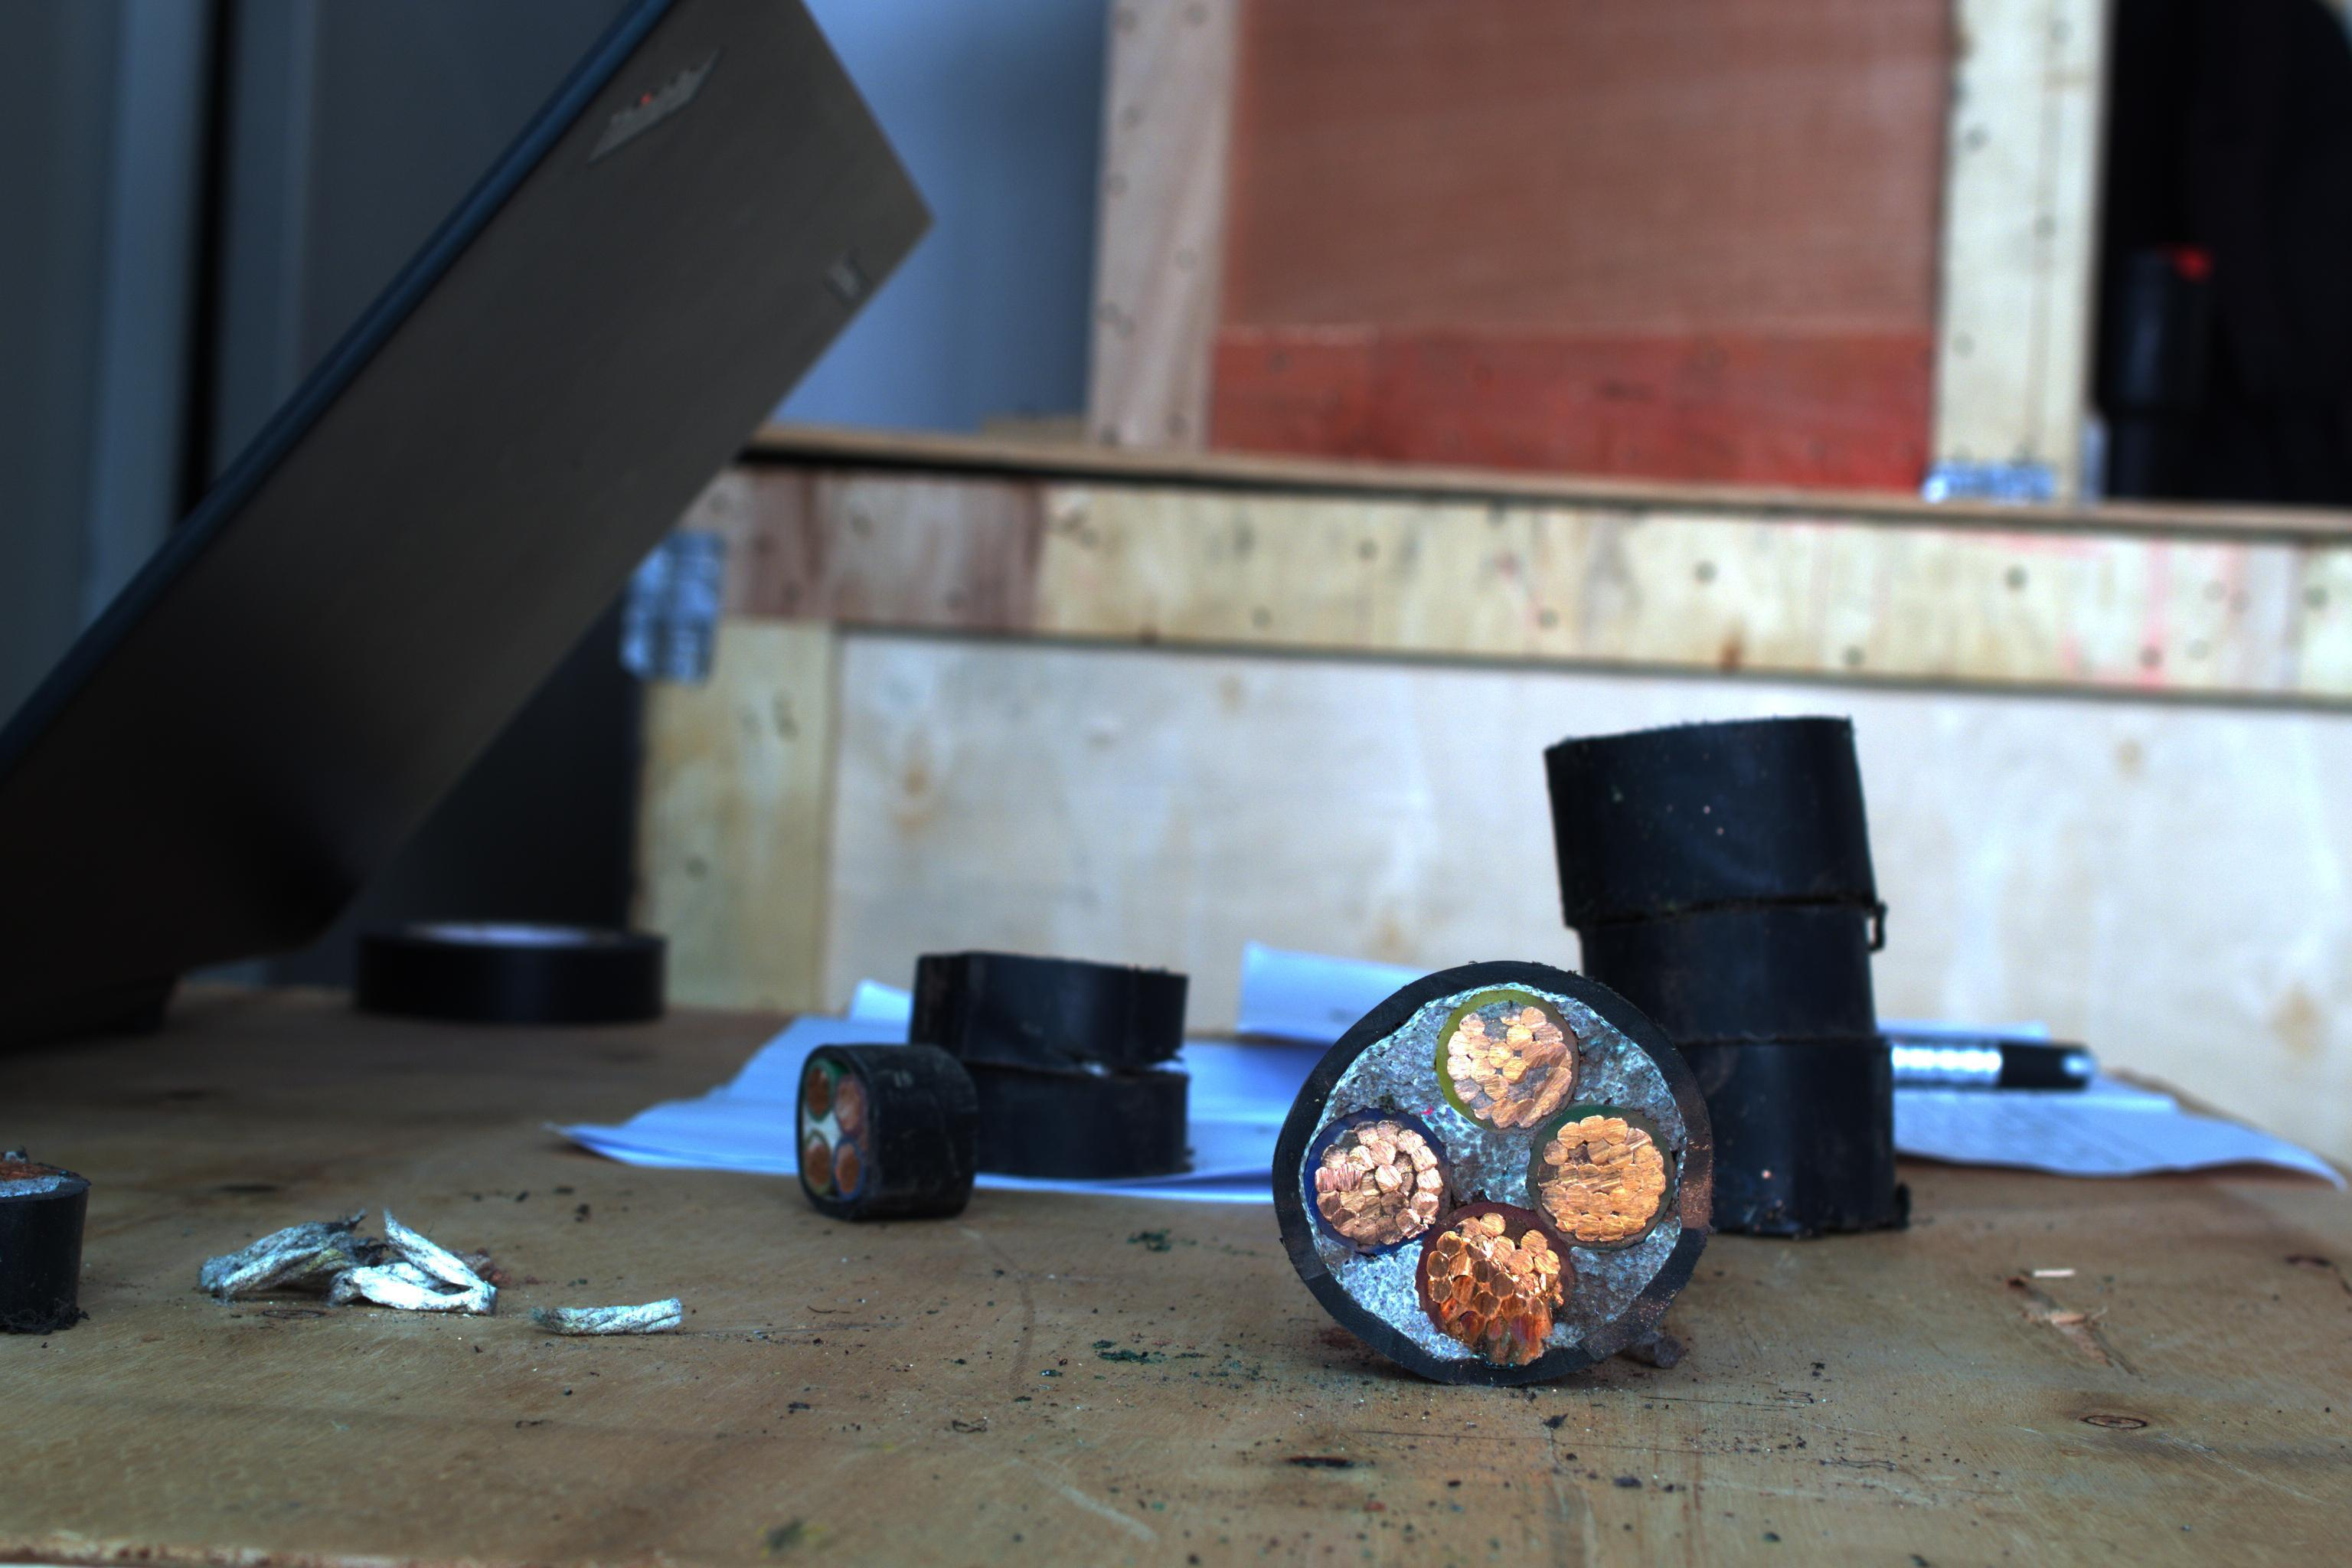YJV_0.6_1kV_4x120: (1267, 943, 1729, 1379)
